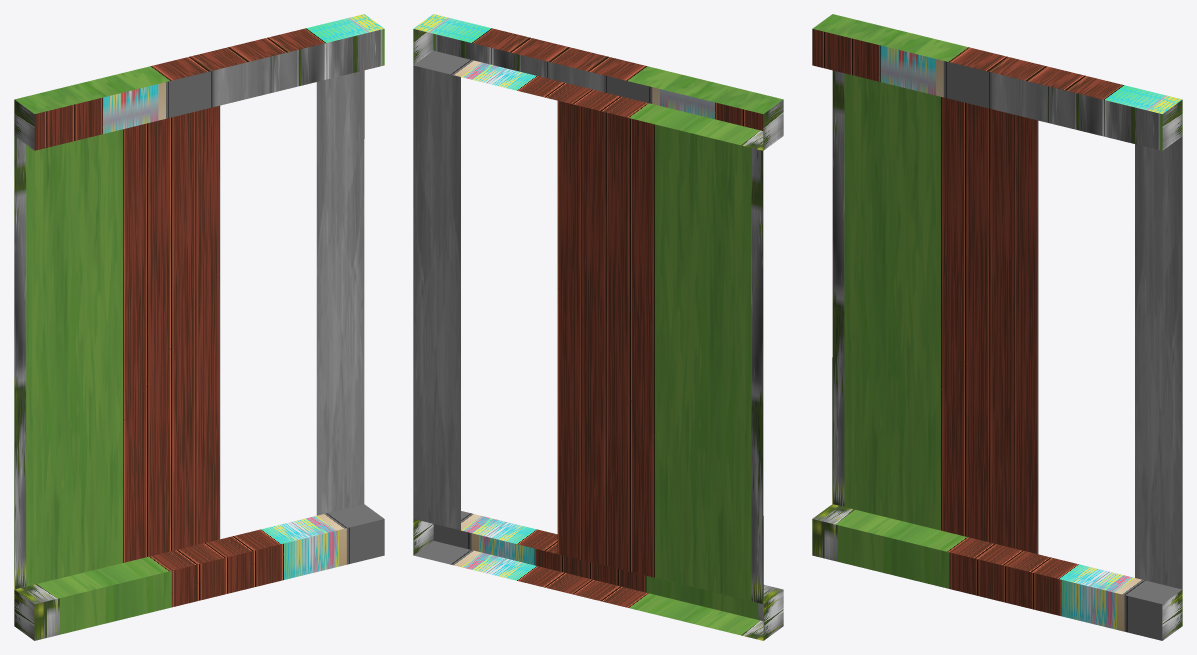
The model's file is Wall.fbx.
The picture shows the model from 3 angles, left to right: view 1: azimuth 30°, elevation 25°; view 2: azimuth 150°, elevation 25°; view 3: azimuth 330°, elevation 25°; orthographic projection.
Parts seen in each view (by area): view 1: Wall; view 2: Wall; view 3: Wall.
Boxes of the visible parts, x1=… form: Wall: x1=14, y1=14, x2=384, y2=640; Wall: x1=413, y1=14, x2=783, y2=640; Wall: x1=812, y1=14, x2=1182, y2=640.
Size of the model in its own units: 1 by 0.1 by 1.44.
